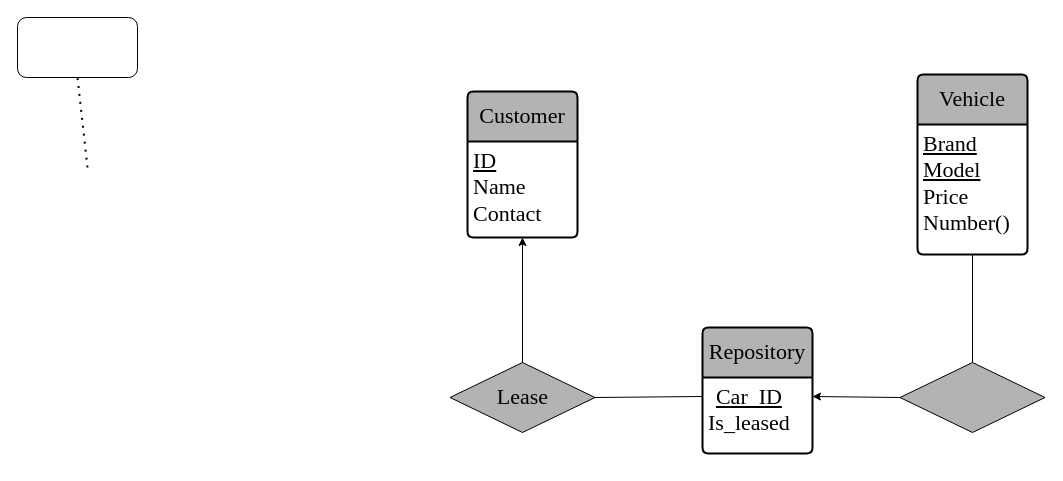
Some shapes in this 1063 by 481 pixel diagram are drawn without their labels. Each missing label, with the centre of its shape:
Date Slot: point 77,47
Infomation: point 972,397
